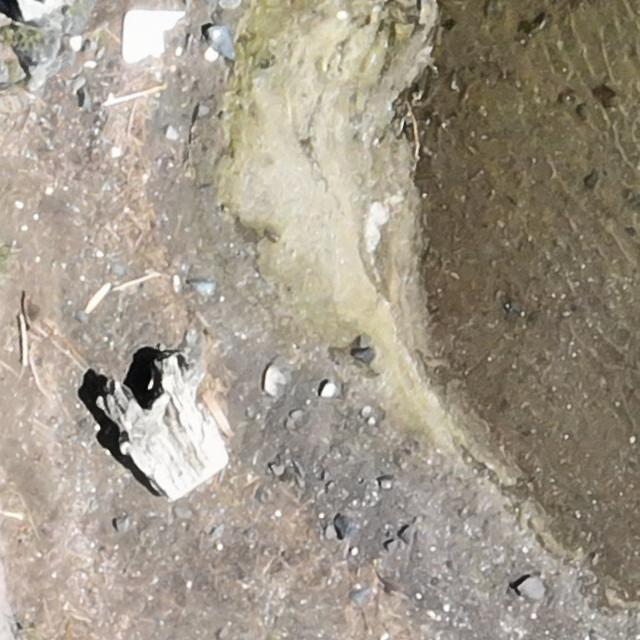umineko: (204, 25, 241, 65)
